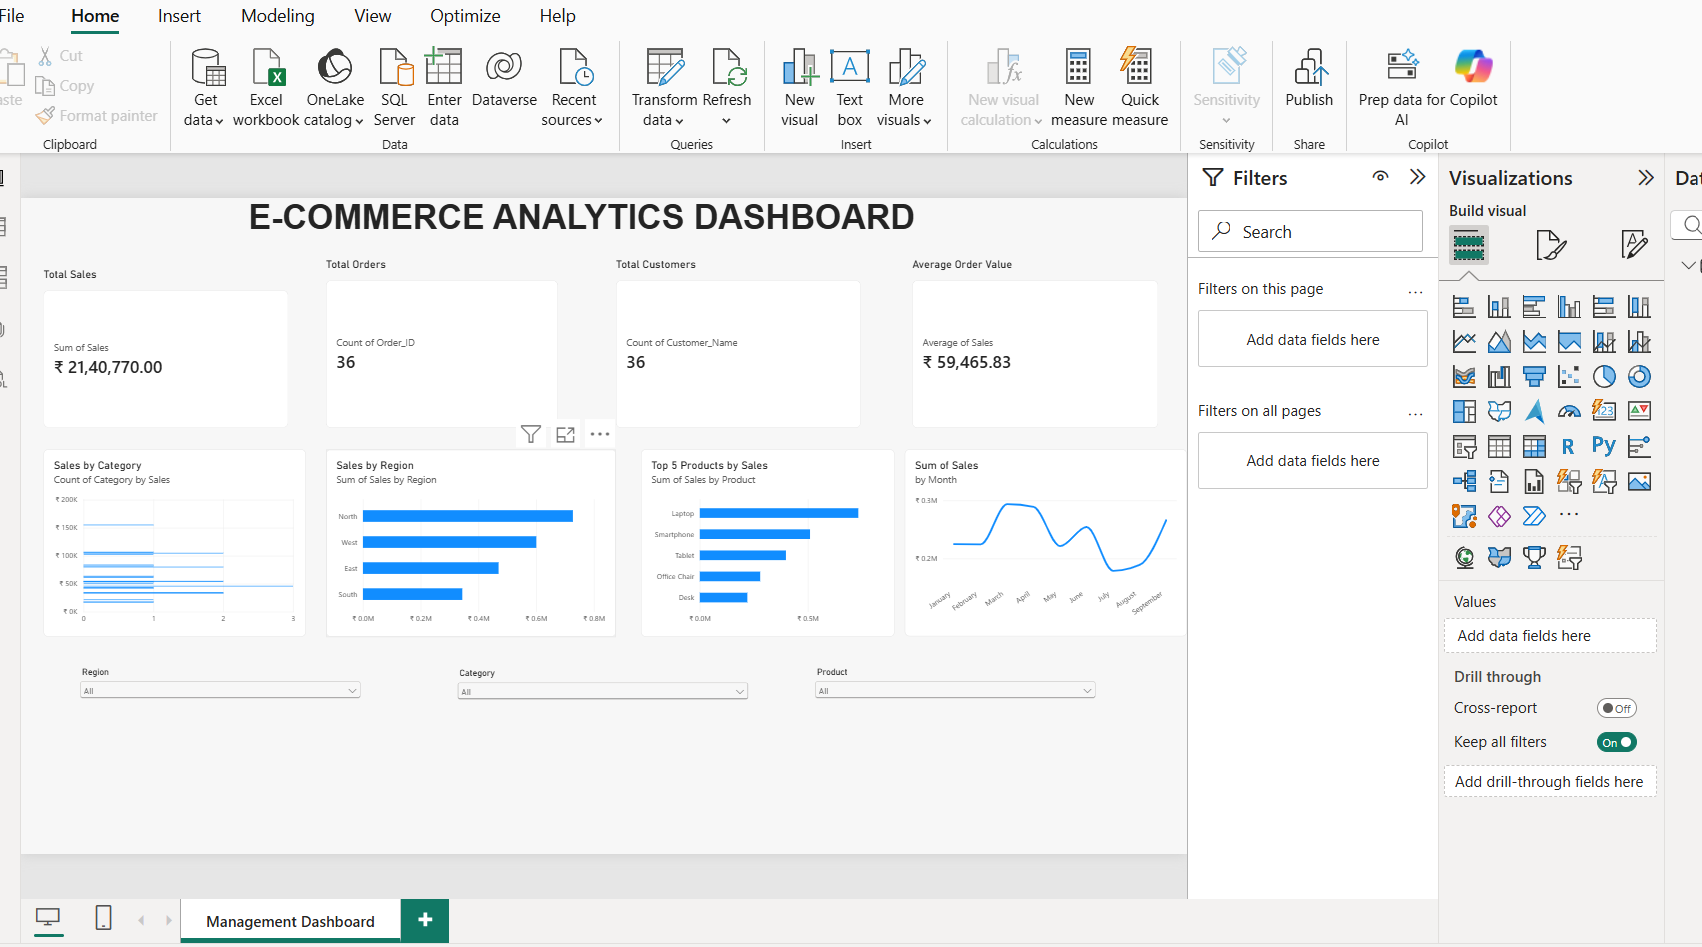

Layout of this report page (visuals, bound fields, positions):
{"tool":"powerbi","page":{"name":"Management Dashboard","canvas":[1920,1080],"ordinal":0},"visuals":[{"type":"cardVisual","title":"Total Sales","fields":{"Data":["Sum(Ecommerce_Cleaned_Sales_Data.Sales)"]},"box":[37,115.3,403.4,263.5],"z":0},{"type":"cardVisual","title":"Total Orders","fields":{"Data":["Count(Ecommerce_Cleaned_Sales_Data.Order_ID)"]},"box":[502.2,98.8,382.8,279.9],"z":1},{"type":"textbox","box":[374.6,0,1148.5,98.8],"z":3},{"type":"cardVisual","title":"Total Customers","fields":{"Data":["Count(Ecommerce_Cleaned_Sales_Data.Customer_Name)"]},"box":[979.8,98.8,403.4,279.9],"z":5},{"type":"cardVisual","title":"Average Order Value","fields":{"Data":["Avg(Ecommerce_Cleaned_Sales_Data.Sales)"]},"box":[1467.6,98.8,405.5,279.9],"z":6},{"type":"clusteredBarChart","title":"Sales by Category","fields":{"Category":["Ecommerce_Cleaned_Sales_Data.Sales"],"Y":["CountNonNull(Ecommerce_Cleaned_Sales_Data.Category)"]},"box":[37,413.7,432.2,308.7],"z":7},{"type":"clusteredBarChart","title":"Sales by Region","fields":{"Category":["Ecommerce_Cleaned_Sales_Data.Region"],"Y":["Sum(Ecommerce_Cleaned_Sales_Data.Sales)"]},"box":[502.2,413.7,477.5,308.7],"z":8},{"type":"lineChart","fields":{"Category":["Ecommerce_Cleaned_Sales_Data.Order_Date.Variation.Date Hierarchy.Month"],"Y":["Sum(Ecommerce_Cleaned_Sales_Data.Sales)"]},"box":[1455.2,413.7,465,308],"z":9},{"type":"clusteredBarChart","title":"Top 5 Products by Sales","fields":{"Category":["Ecommerce_Cleaned_Sales_Data.Product"],"Y":["Sum(Ecommerce_Cleaned_Sales_Data.Sales)"]},"box":[1020.9,413.7,417.8,308.7],"z":10},{"type":"slicer","fields":{"Values":["Ecommerce_Cleaned_Sales_Data.Region"]},"box":[92.6,771.9,471.4,253.2],"z":11},{"type":"slicer","fields":{"Values":["Ecommerce_Cleaned_Sales_Data.Category"]},"box":[714.2,773.9,487.8,216.1],"z":12},{"type":"slicer","fields":{"Values":["Ecommerce_Cleaned_Sales_Data.Product"]},"box":[1302.9,771.9,471.4,253.2],"z":13}]}

Visuals, with their boxes on the page's 1920x1080 design canvas (x1, y1, x2, y2). These are canvas units, not pixel positions in the 1702x947 screenshot, which may show the page scaled, cropped or inside an application window:
"Total Sales" cardVisual: 37/115/440/379
"Total Orders" cardVisual: 502/99/885/379
textbox: 375/0/1523/99
"Total Customers" cardVisual: 980/99/1383/379
"Average Order Value" cardVisual: 1468/99/1873/379
"Sales by Category" clusteredBarChart: 37/414/469/722
"Sales by Region" clusteredBarChart: 502/414/980/722
lineChart - Ecommerce_Cleaned_Sales_Data.Order_Date.Variation.Date Hierarchy.Month x Sum(Ecommerce_Cleaned_Sales_Data.Sales): 1455/414/1920/722
"Top 5 Products by Sales" clusteredBarChart: 1021/414/1439/722
slicer - Ecommerce_Cleaned_Sales_Data.Region: 93/772/564/1025
slicer - Ecommerce_Cleaned_Sales_Data.Category: 714/774/1202/990
slicer - Ecommerce_Cleaned_Sales_Data.Product: 1303/772/1774/1025
